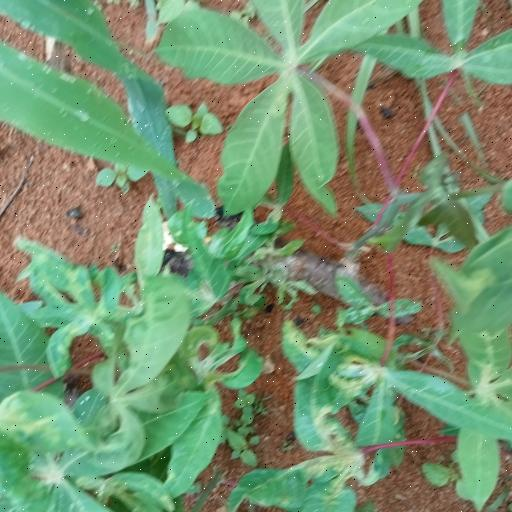Cassava_Mosaic: (146, 4, 406, 230)
